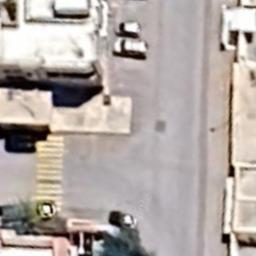SUV: (114, 20, 142, 36)
unknown: (108, 210, 138, 230)
van: (113, 36, 148, 58)
